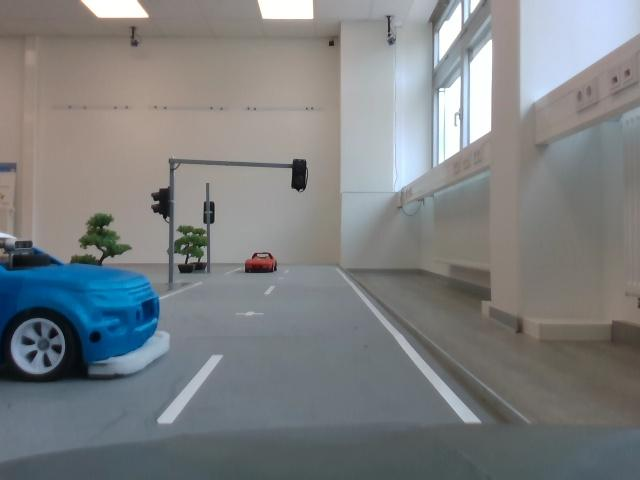car: (1, 231, 179, 379), (245, 246, 278, 276)
potted plant: (68, 213, 144, 264), (189, 224, 207, 279), (176, 224, 194, 272)
traffic light: (145, 184, 176, 222), (291, 155, 311, 195), (201, 197, 217, 229)
